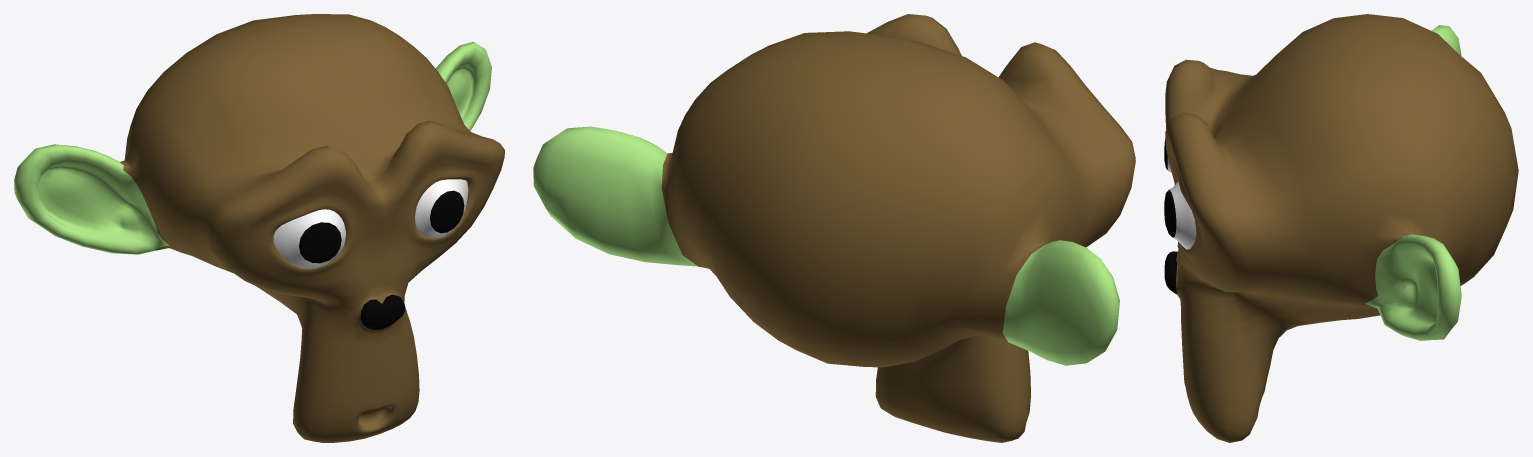
File: Monkey.glb
3 views of the same model, side by side, from view 1: azimuth 30°, elevation 25°; view 2: azimuth 150°, elevation 25°; view 3: azimuth 270°, elevation 25° (orthographic). The views are drawn at different scales.
Visible parts, largest first — view 1: Suzanne.004; view 2: Suzanne.004; view 3: Suzanne.004.
Boxes of the visible parts, box(x1,y1,x2,y2) form: Suzanne.004: box(14, 14, 504, 442); Suzanne.004: box(533, 14, 1135, 442); Suzanne.004: box(1164, 14, 1518, 442).
Bounding box in the file's own units: 2.65 × 1.91 × 1.6.
